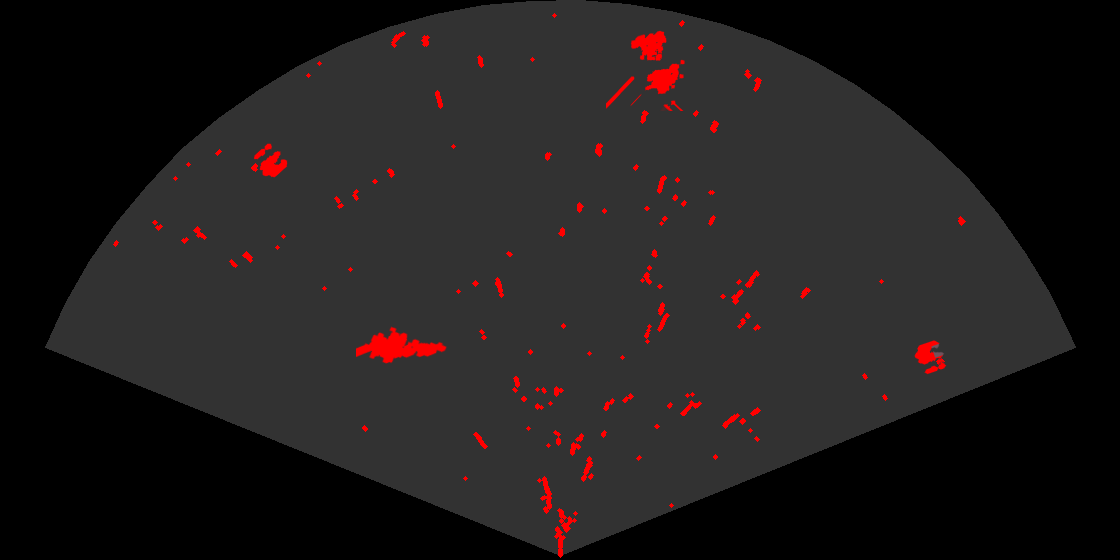ball: (252, 142, 289, 179), (913, 339, 948, 376)
cage: (606, 29, 686, 111)
frogman: (356, 325, 448, 365)
